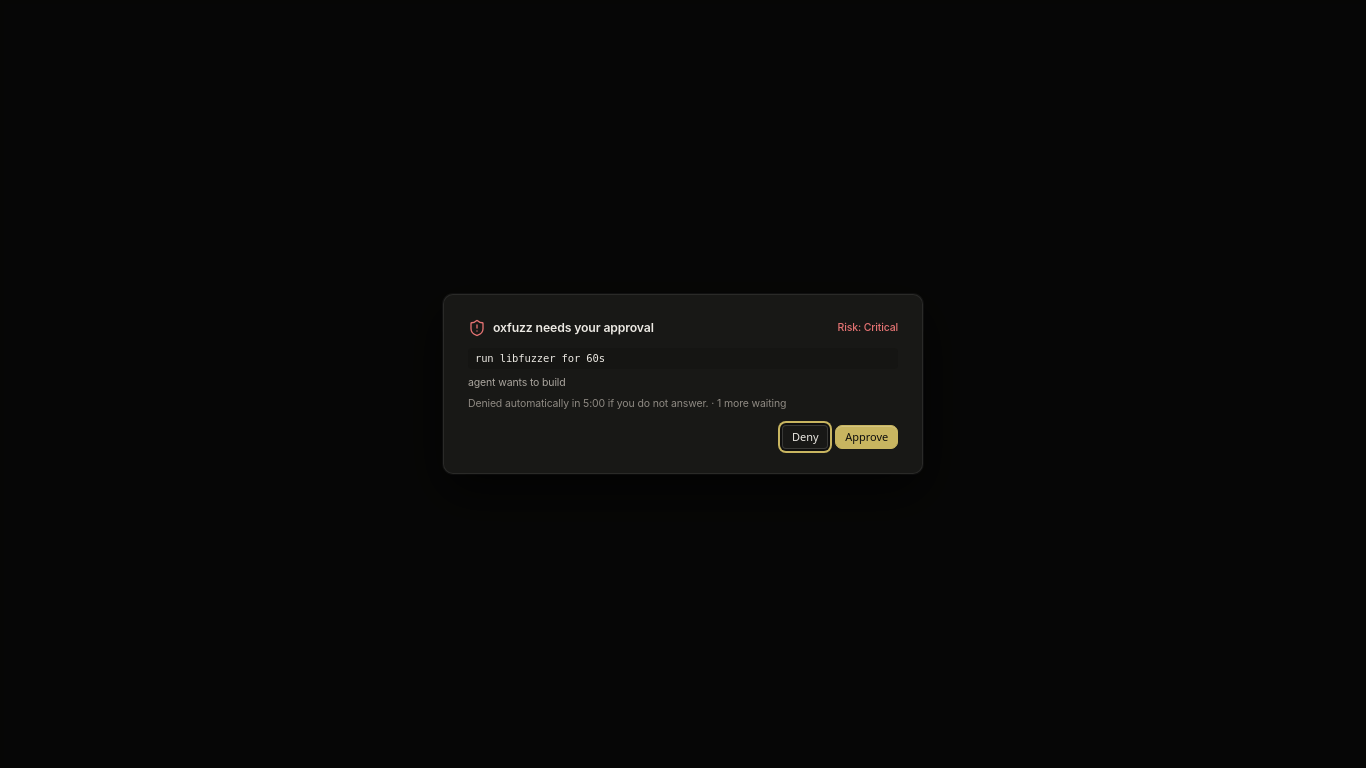
queues concurrent requests instead of replacing the first
The width and height of the screenshot is (1366, 768).
Click the button "Deny" at coordinates (805, 437), box [782, 424, 828, 449]
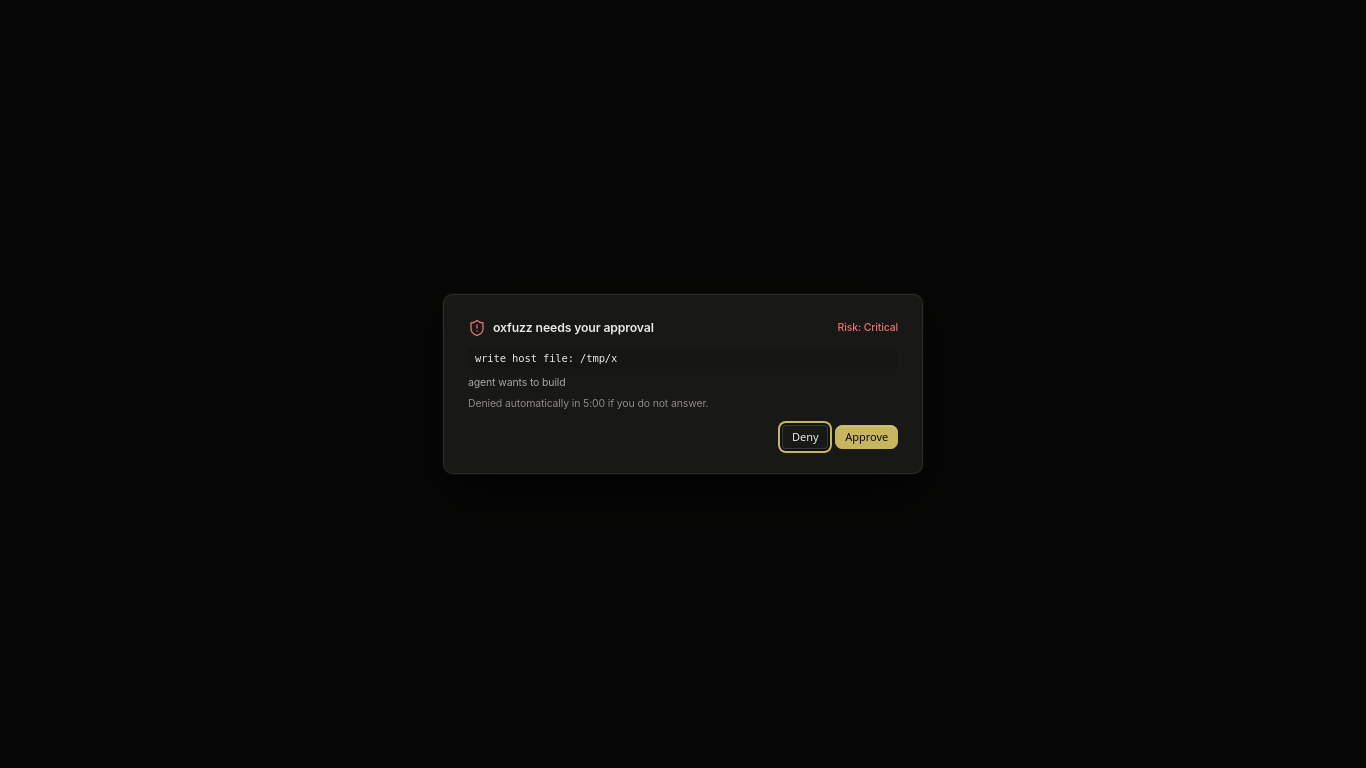
Expected: the text "write host file: /tmp/x" is shown, [468, 348, 898, 368]
